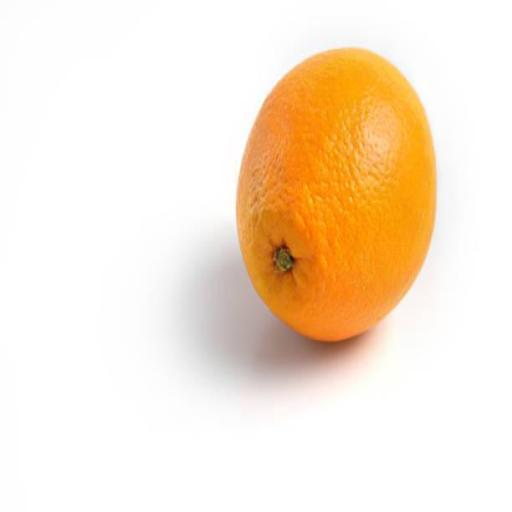orange: (237, 49, 435, 341)
